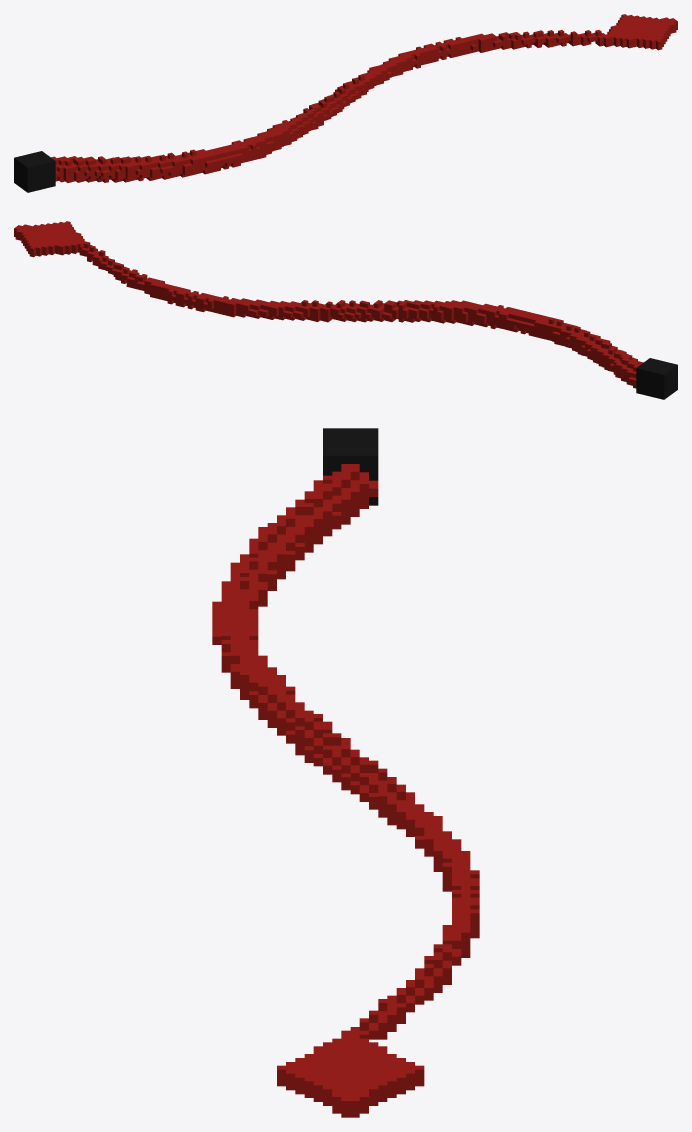
File: devil_tail.glb
The picture shows the model from 3 angles, top to bottom: view 1: azimuth 30°, elevation 25°; view 2: azimuth 150°, elevation 25°; view 3: azimuth 270°, elevation 25°; orthographic projection. The views are drawn at different scales.
Visible parts, largest first — view 1: devil_tail:compound; view 2: devil_tail:compound; view 3: devil_tail:compound.
Part boxes in pixels (x1,y1,x2,y2): devil_tail:compound: (14,14,677,192); devil_tail:compound: (14,221,677,399); devil_tail:compound: (212,428,479,1117).
Size of the model in its own units: 0.656 by 0.024 by 0.116.
